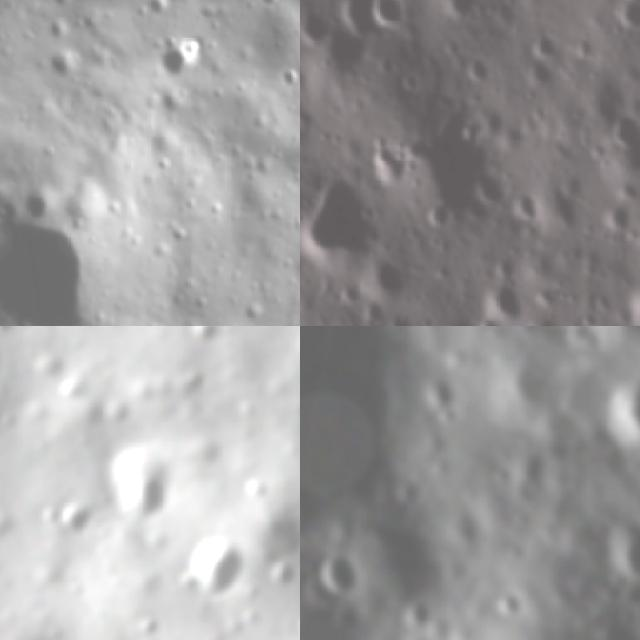crater: (300, 326, 457, 550), (0, 179, 122, 326), (396, 110, 511, 244), (482, 326, 590, 426), (300, 174, 389, 280), (109, 444, 180, 526), (178, 530, 247, 601), (589, 498, 640, 593), (605, 359, 640, 456), (144, 35, 201, 88), (309, 544, 363, 598), (367, 250, 411, 309), (363, 0, 416, 48), (326, 0, 380, 47), (480, 273, 526, 326), (480, 578, 535, 622), (365, 142, 410, 190), (59, 497, 100, 540), (504, 191, 545, 233), (457, 52, 496, 94), (604, 108, 640, 153), (300, 1, 330, 54), (428, 0, 480, 29), (604, 0, 640, 39), (600, 203, 635, 243), (266, 560, 299, 600), (526, 33, 557, 66), (31, 502, 66, 529), (176, 366, 209, 394), (273, 61, 300, 95), (243, 297, 270, 326), (178, 326, 224, 343), (624, 278, 640, 326), (300, 554, 312, 614), (133, 614, 160, 640), (254, 0, 290, 15), (382, 313, 423, 326), (0, 326, 18, 340)
